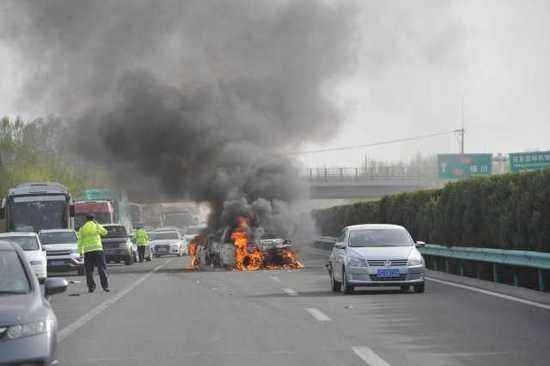fire: (185, 218, 305, 272)
